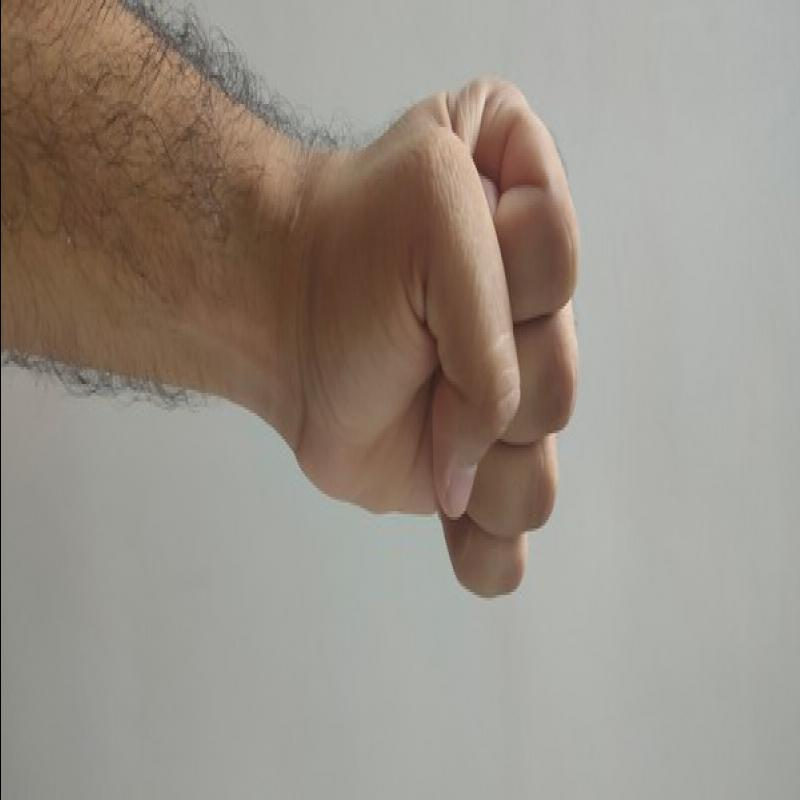Mushti: (291, 60, 600, 612)
